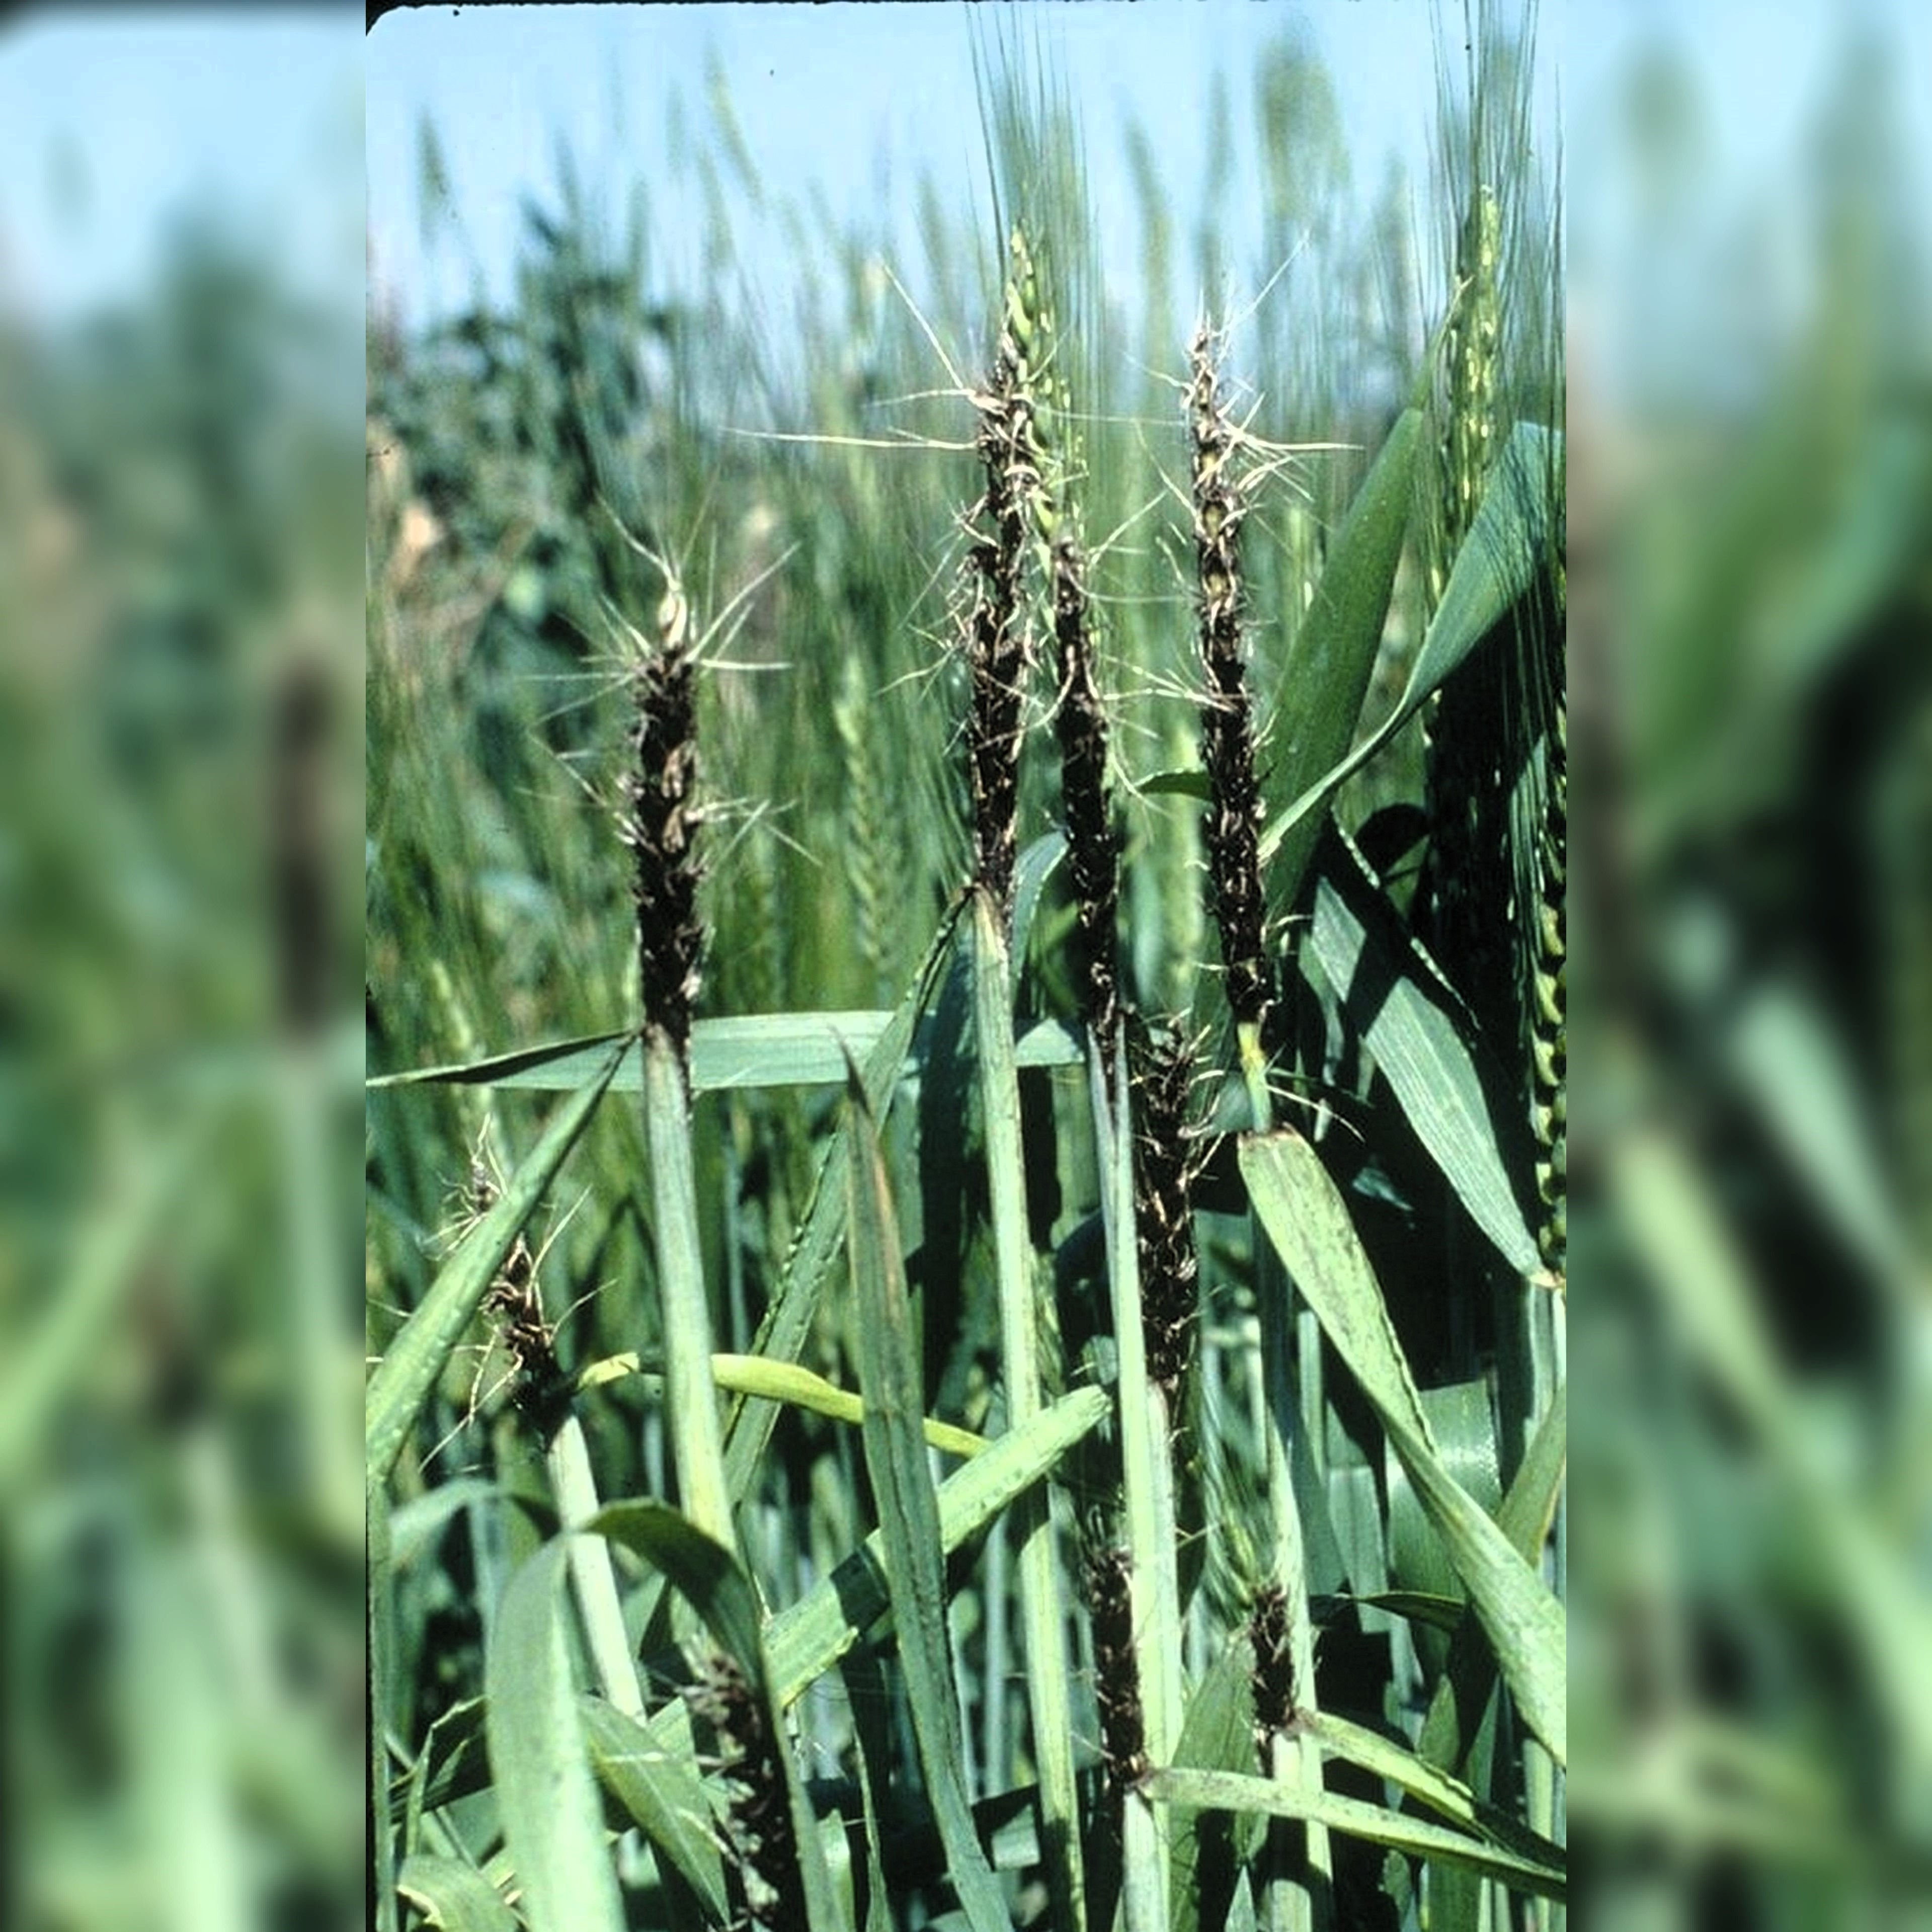Wheat Loose Smut: (844, 352, 1357, 885)
